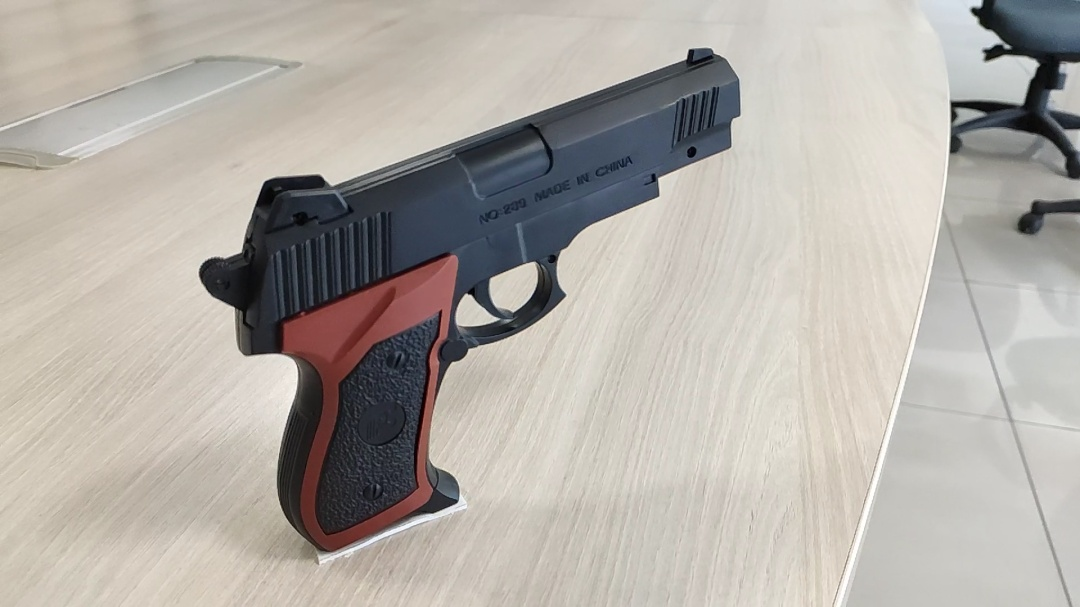gun: (516, 175, 736, 402)
